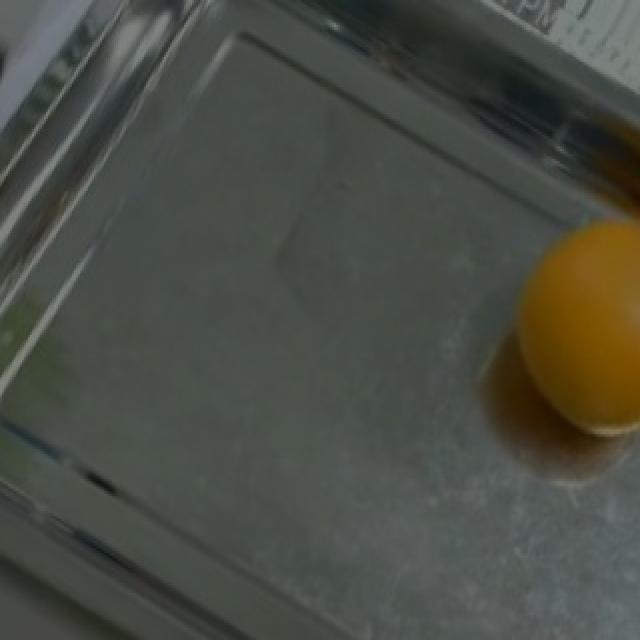Fruit: (490, 201, 640, 466)
